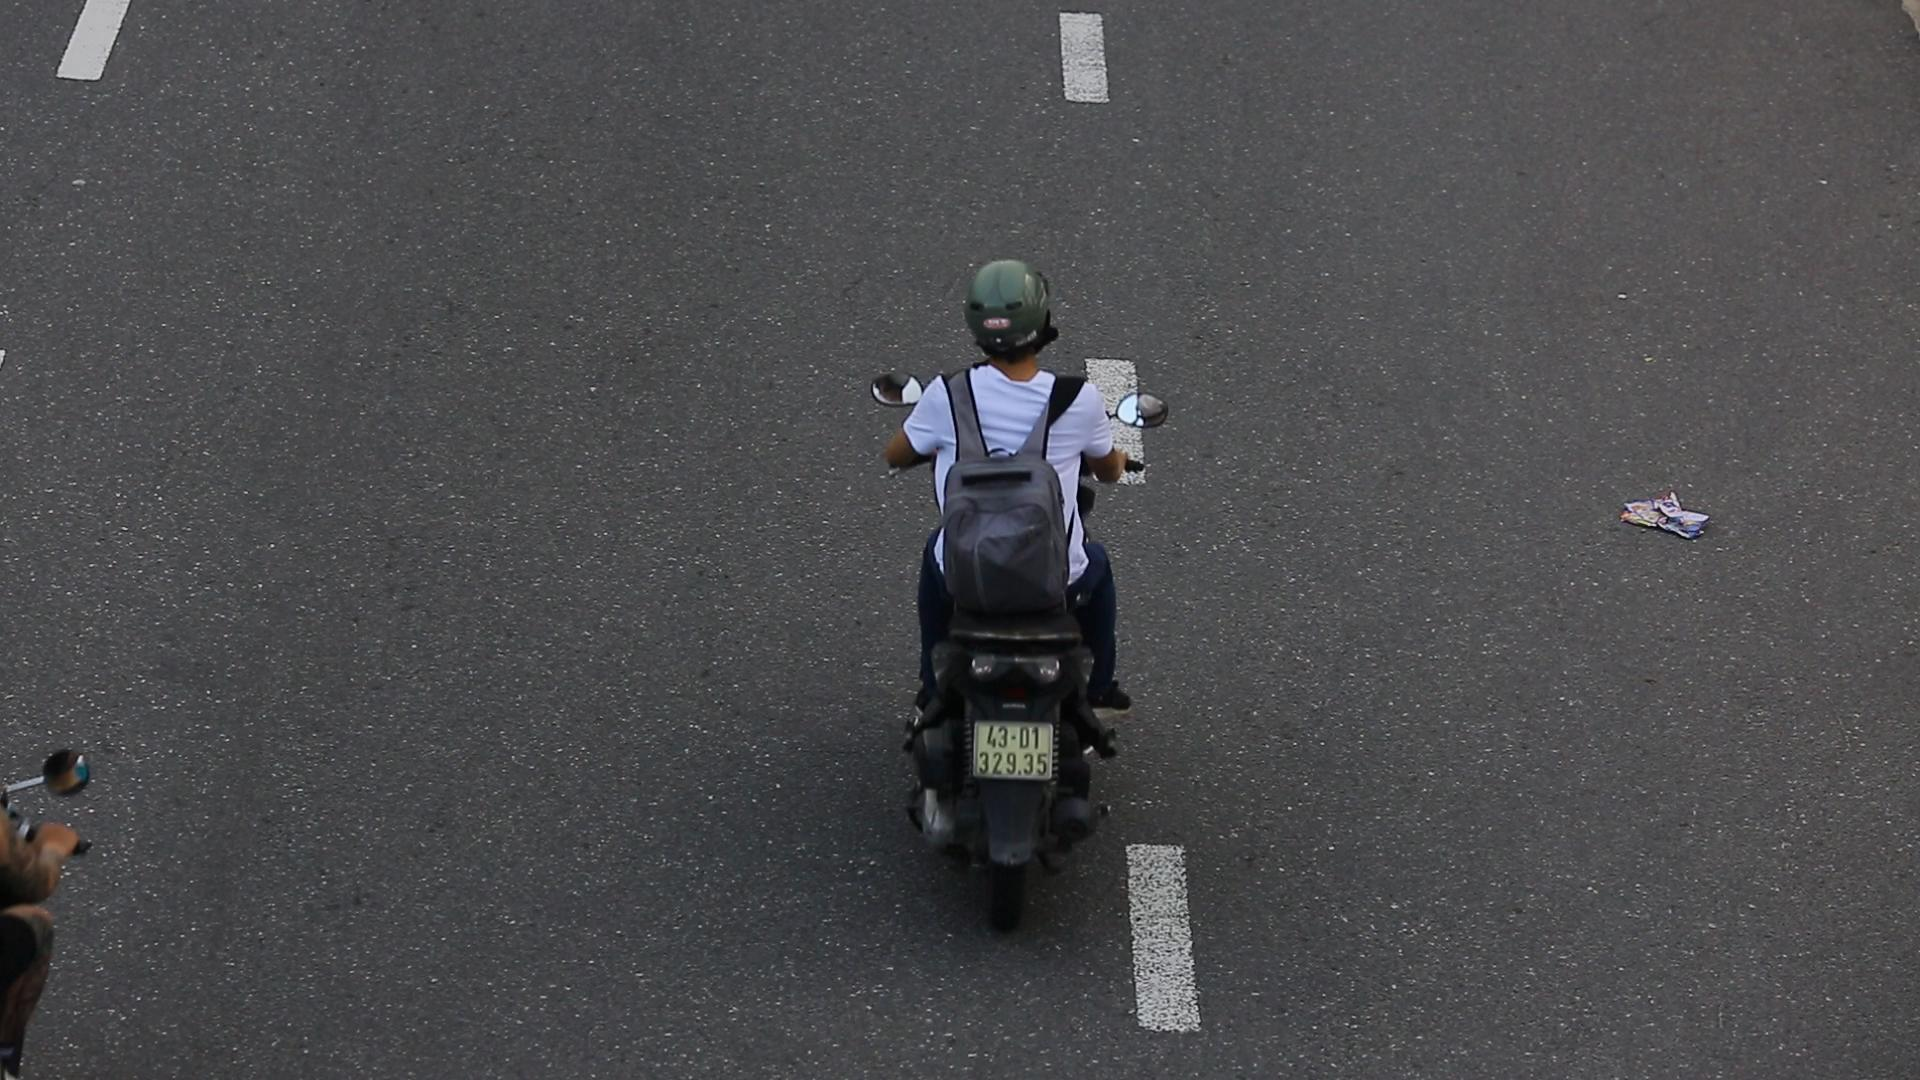motobike: (833, 243, 1193, 930)
